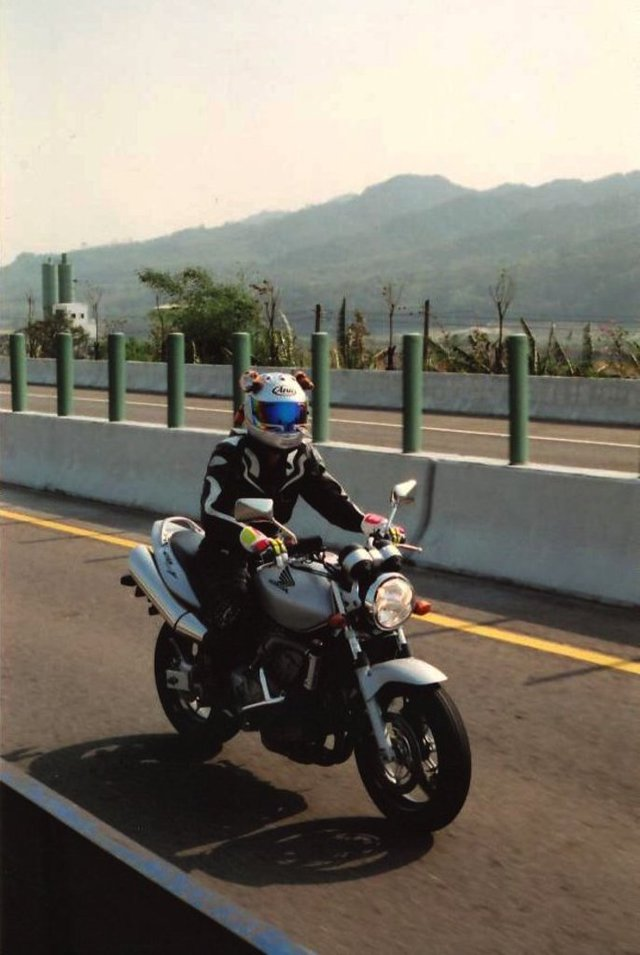helmet: (249, 372, 327, 447)
